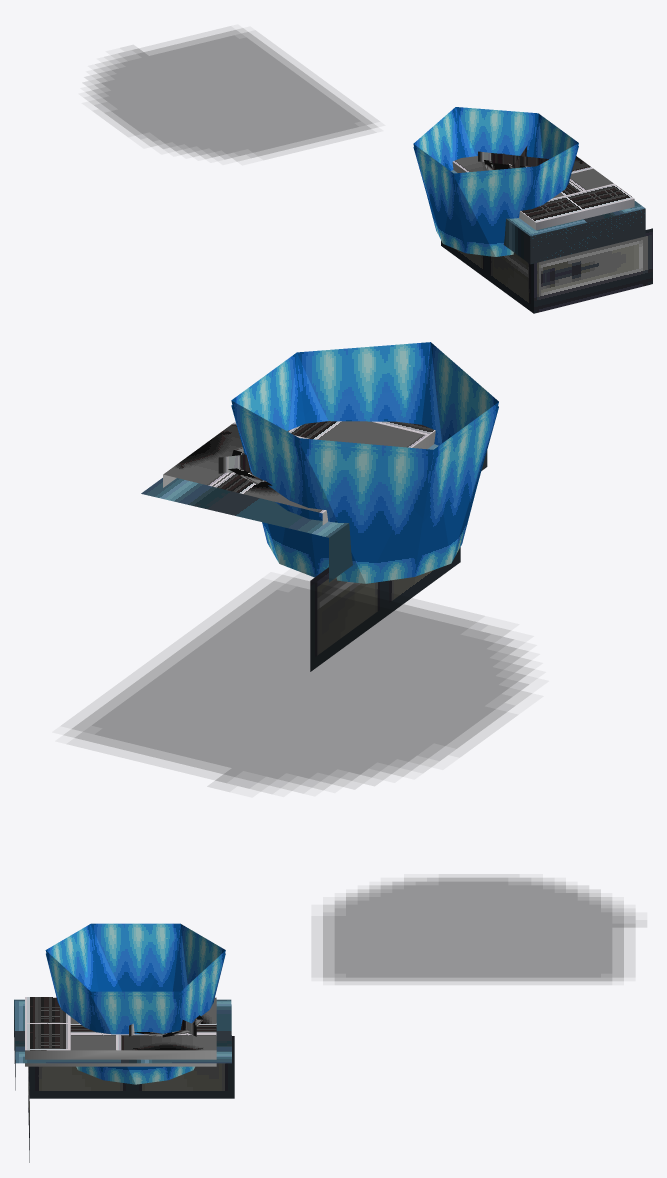
3 views of the same model, one above another, from view 1: azimuth 30°, elevation 25°; view 2: azimuth 150°, elevation 25°; view 3: azimuth 270°, elevation 25° (orthographic). The views are drawn at different scales.
Parts seen in each view (by area): view 1: uma_ma_konro; view 2: uma_ma_konro; view 3: uma_ma_konro.
Part boxes in pixels (left/top/right/bottom): uma_ma_konro: left=86, top=28, right=652, bottom=313; uma_ma_konro: left=64, top=342, right=533, bottom=790; uma_ma_konro: left=14, top=877, right=635, bottom=1162.
Bounding box in the file's own units: 2.69 × 0.9988 × 3.75.
7 materials, 7 textured.
